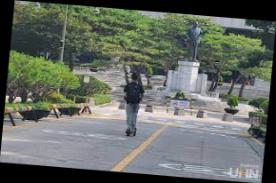nonhelmet: (115, 70, 147, 137)
